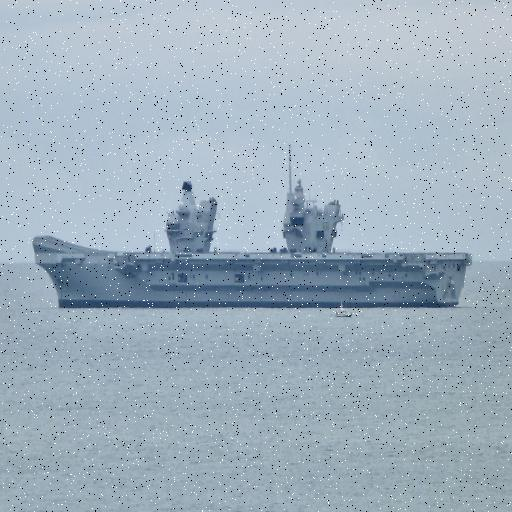Portanaves: (31, 138, 476, 315)
